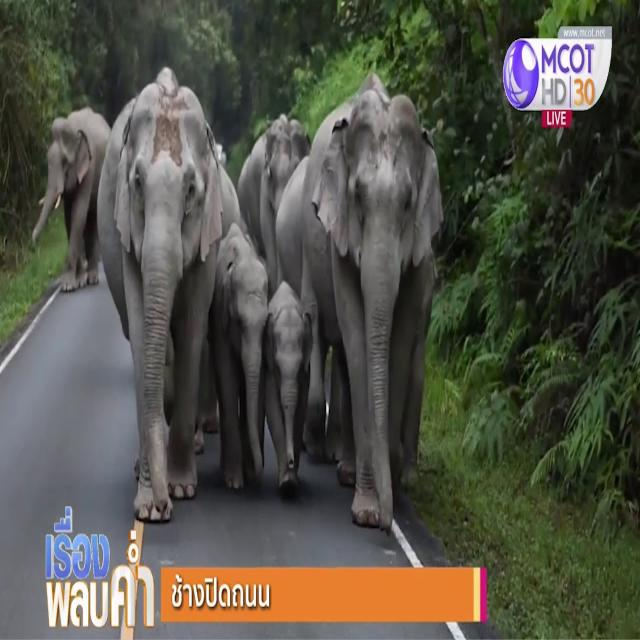Elephant: (286, 82, 459, 550), (87, 61, 238, 528), (196, 227, 278, 520), (32, 75, 109, 308), (251, 272, 322, 517), (238, 65, 315, 273)
